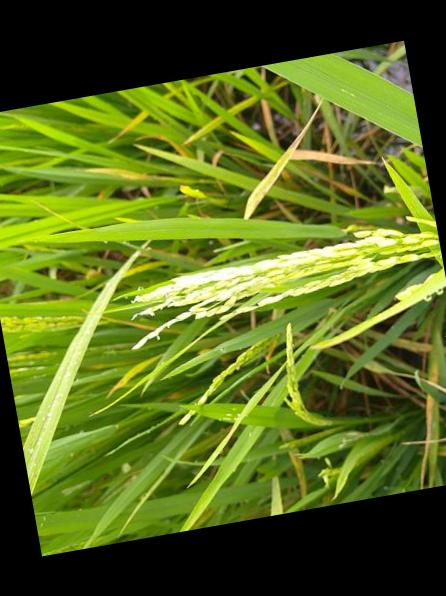Leaf Streak: (23, 247, 141, 499)
